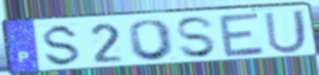2: (89, 22, 125, 65)
E: (216, 11, 268, 59)
O: (127, 18, 178, 63)
S: (174, 15, 219, 60), (42, 23, 84, 69)
U: (262, 8, 310, 56)
